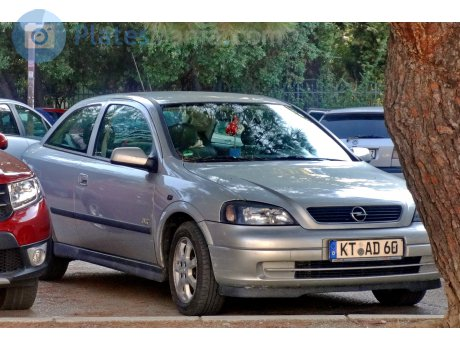License Plates: (336, 240, 403, 255)
